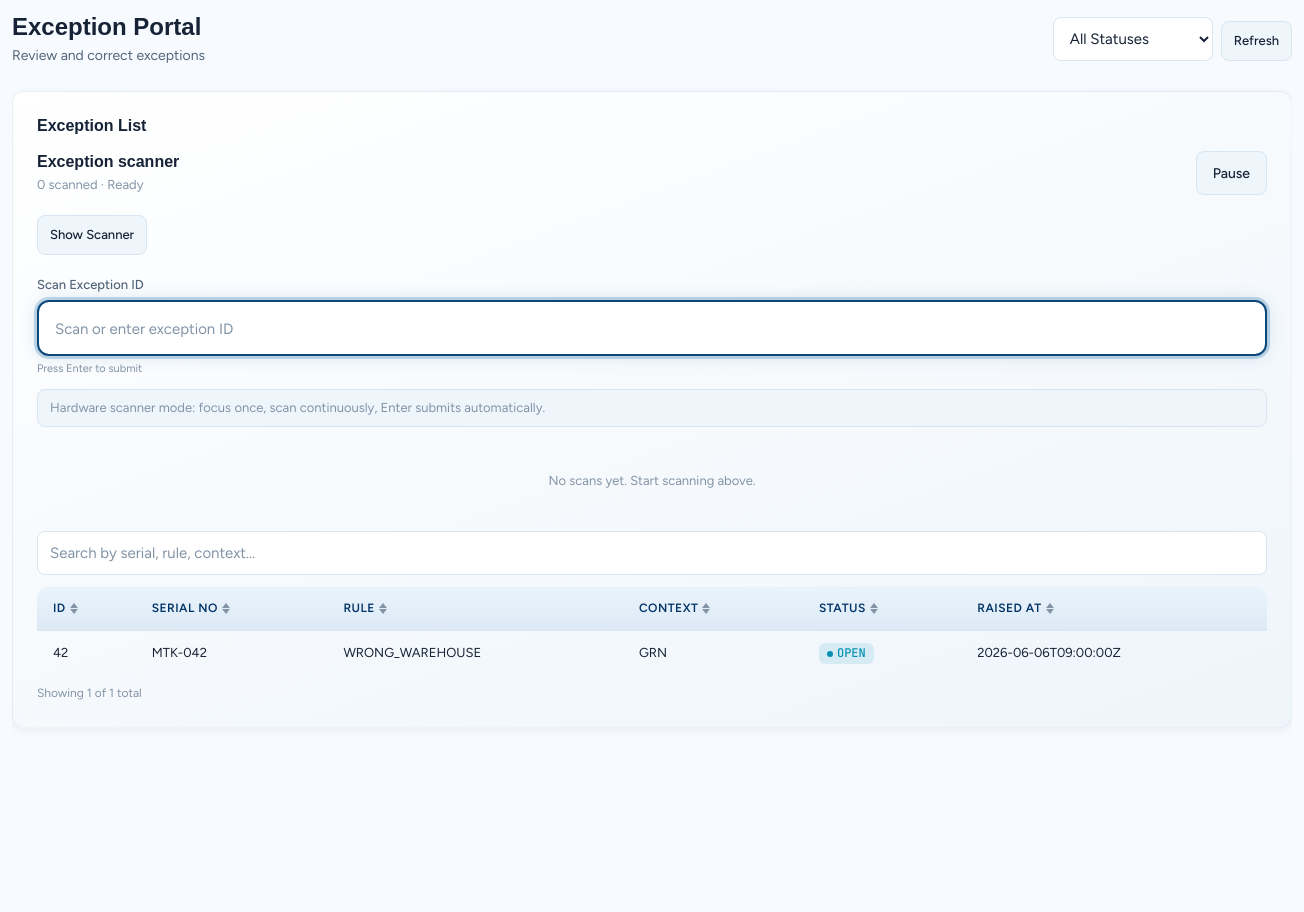
it: ExceptionsPage — detail › shows detail error when fetch fails
The image size is (1304, 912).
Click the text "MTK-042" at (179, 653), box [136,630,327,676]
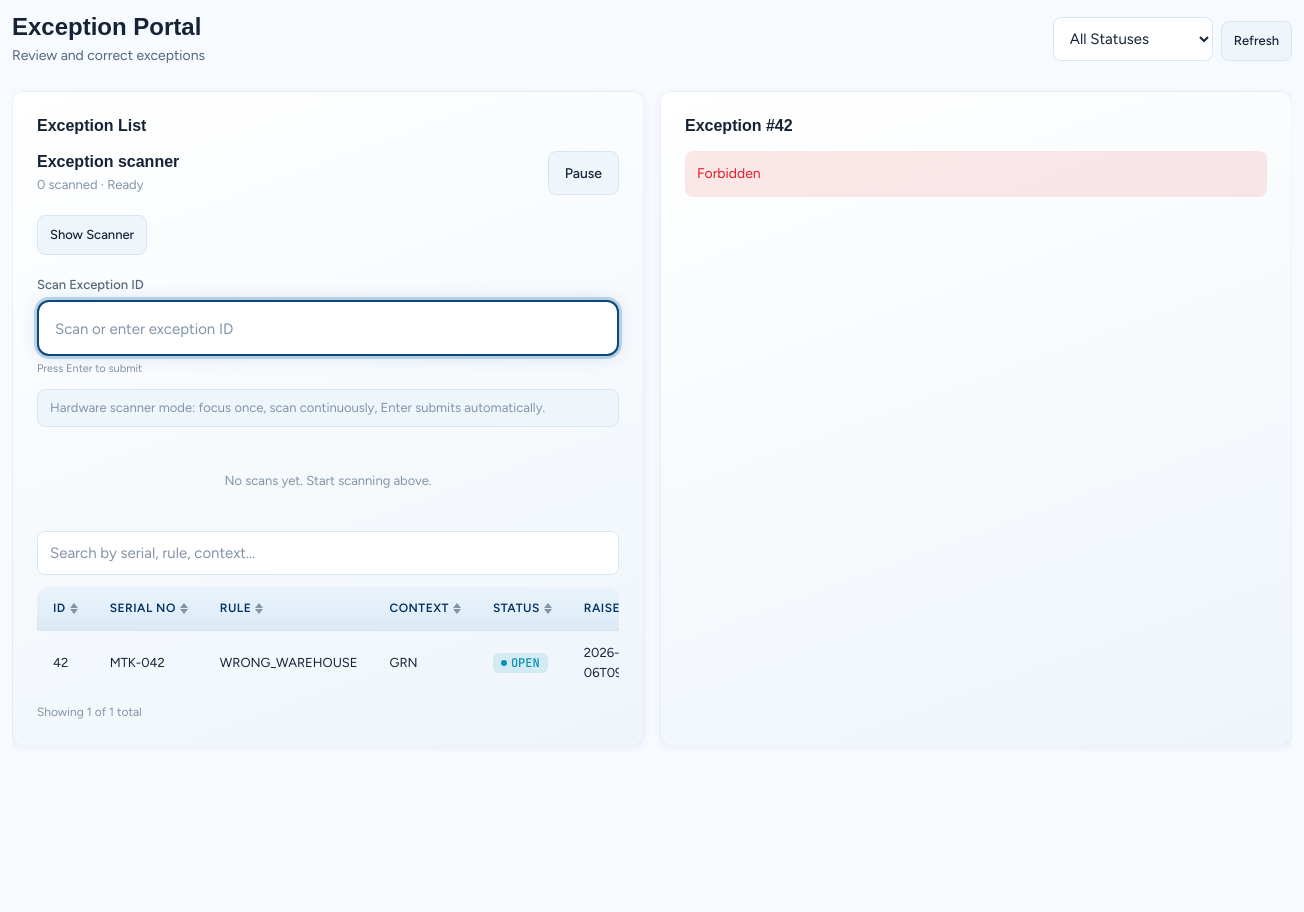
Check: the text "Forbidden" is shown, box [685,152,1267,197]
